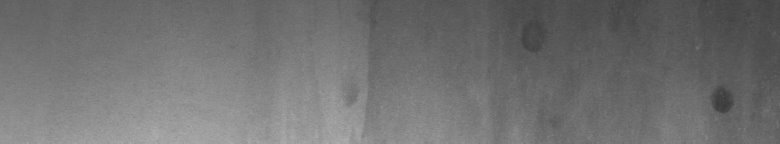fi: (696, 46, 737, 120)
